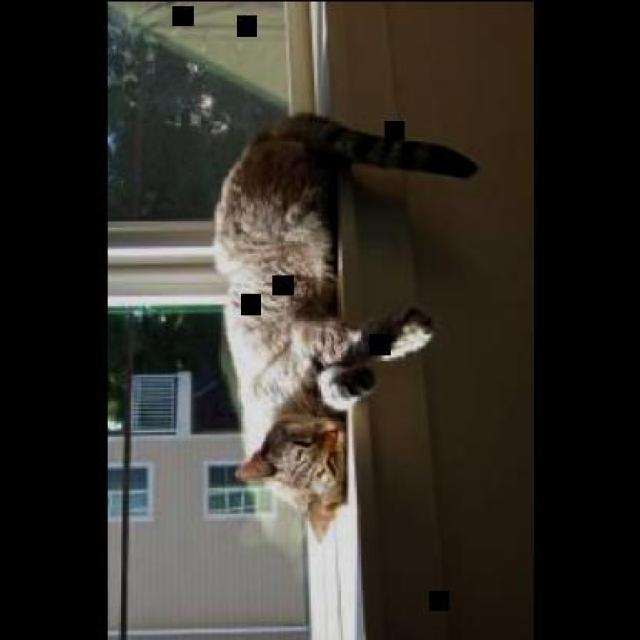unauthorized: (211, 110, 478, 542)
